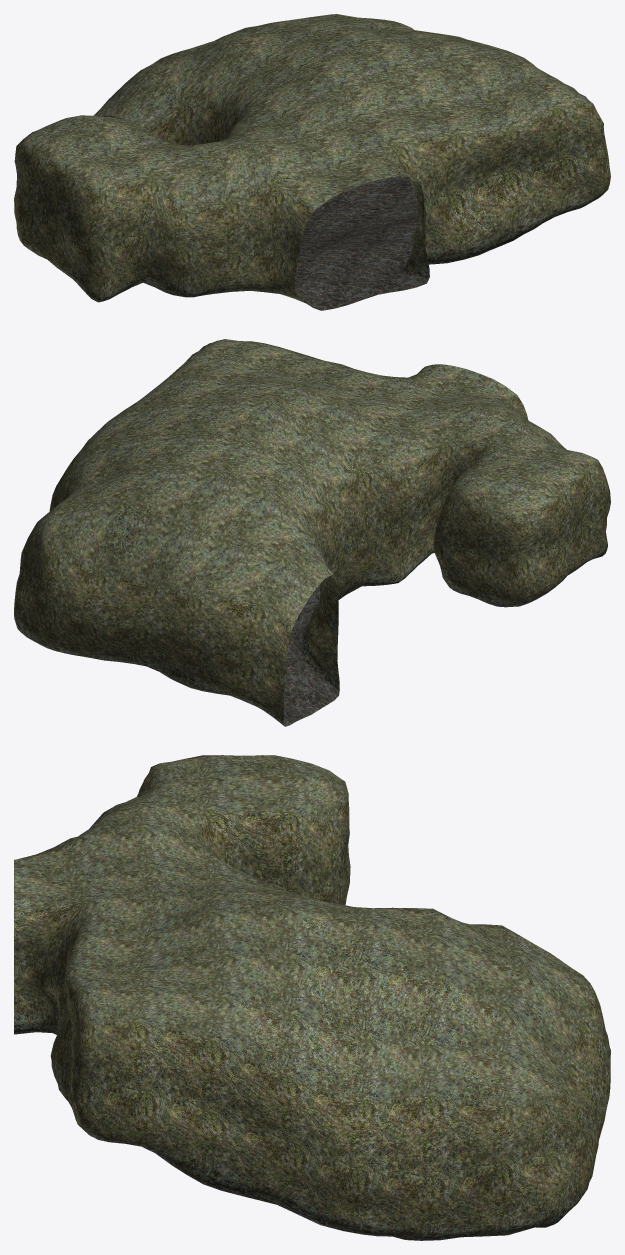
Rendered from thm_all_cave_flatland_s01_damprock_r5_mesh_r5.fbx.
The picture shows the model from 3 angles, top to bottom: view 1: azimuth 30°, elevation 25°; view 2: azimuth 150°, elevation 25°; view 3: azimuth 270°, elevation 25°; orthographic projection. The views are drawn at different scales.
Visible parts, largest first — view 1: mesh_node; view 2: mesh_node; view 3: mesh_node.
Boxes of the visible parts, box(x1,y1,x2,y2) form: mesh_node: box(14, 14, 610, 310); mesh_node: box(14, 339, 610, 726); mesh_node: box(14, 755, 610, 1240).
Bounding box in the file's own units: 98.88 × 42.82 × 84.01.
